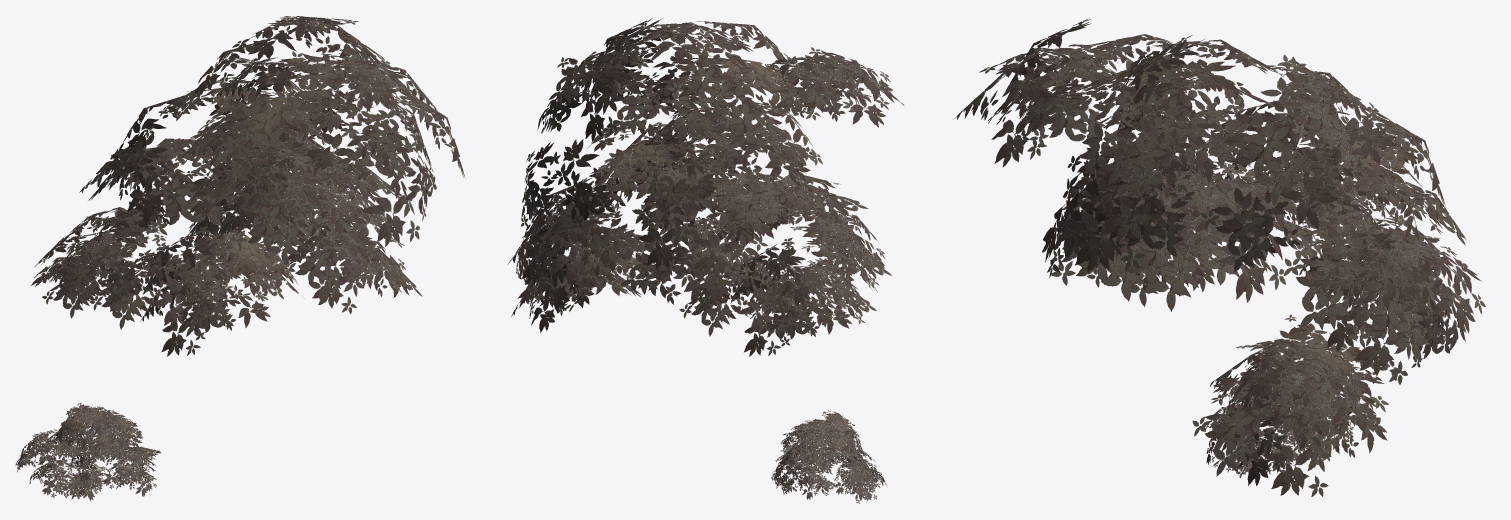
Rendered from Area13_13.FBX.
The picture shows the model from 3 angles, left to right: view 1: azimuth 30°, elevation 25°; view 2: azimuth 150°, elevation 25°; view 3: azimuth 270°, elevation 25°; orthographic projection. The views are drawn at different scales.
Visible parts, largest first — view 1: Area13_13; view 2: Area13_13; view 3: Area13_13.
Part boxes in pixels (x1,y1,x2,y2): Area13_13: [15, 16, 465, 500]; Area13_13: [507, 18, 903, 503]; Area13_13: [953, 18, 1485, 496].
Bounding box in the file's own units: 1274 × 1342 × 1292.
